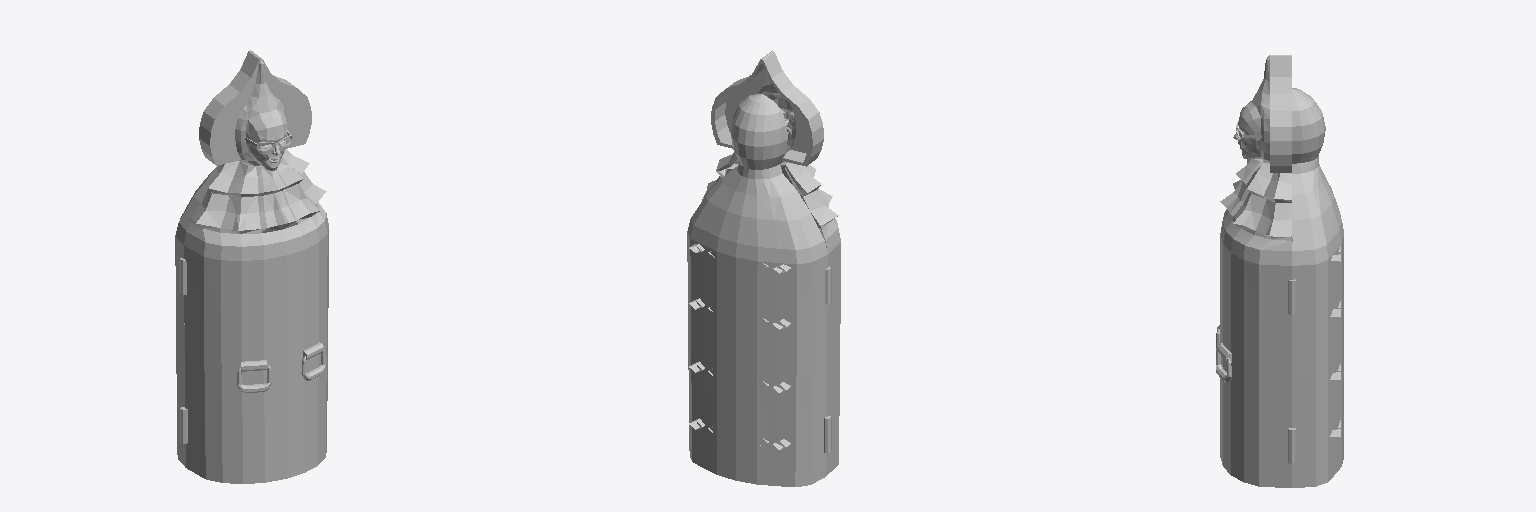
Rendered from iron_maiden.obj.
3 renders of one model, left to right at view 1: azimuth 30°, elevation 25°; view 2: azimuth 150°, elevation 25°; view 3: azimuth 270°, elevation 25°, orthographic.
Visible parts, largest first — view 1: mesh0, mesh1, mesh2, mesh3; view 2: mesh2, mesh0, mesh1, mesh3; view 3: mesh0, mesh2, mesh1, mesh3.
Boxes of the visible parts, box(x1,y1,x2,y2) form: mesh0: box(184, 50, 328, 483); mesh1: box(190, 93, 326, 392); mesh2: box(175, 165, 219, 467); mesh3: box(180, 258, 187, 443); mesh2: box(687, 94, 827, 486); mesh0: box(701, 51, 840, 475); mesh1: box(704, 152, 838, 229); mesh3: box(689, 244, 831, 452); mesh0: box(1220, 55, 1292, 487); mesh2: box(1292, 88, 1343, 487); mesh1: box(1216, 96, 1291, 381); mesh3: box(1288, 214, 1340, 464).
Bounding box in the file's own units: 2.97 × 8.26 × 2.4.